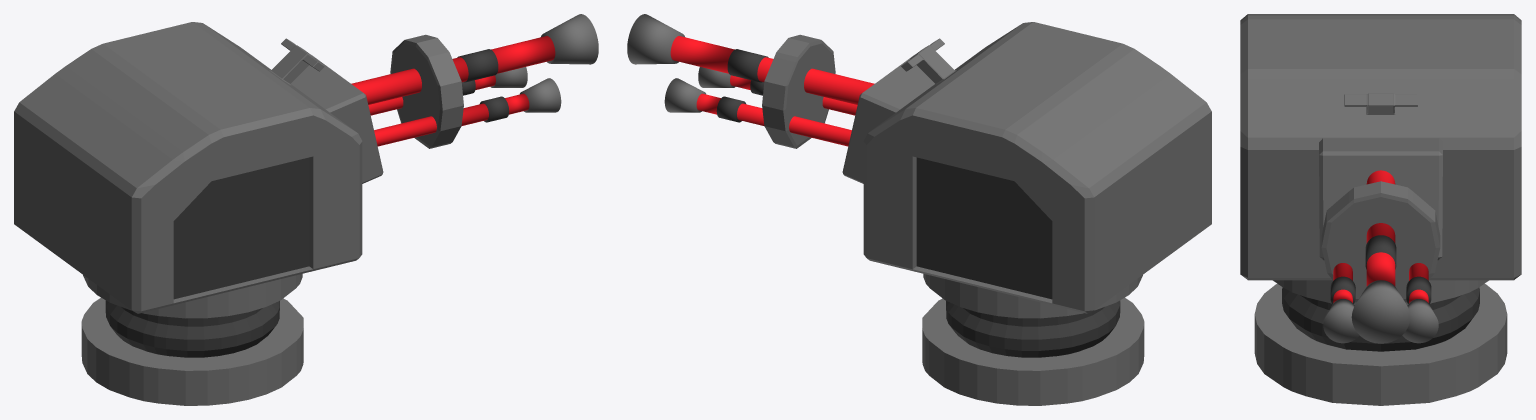
The model's file is StandardTurret.fbx.
3 renders of one model, left to right at view 1: azimuth 30°, elevation 25°; view 2: azimuth 150°, elevation 25°; view 3: azimuth 270°, elevation 25°, orthographic. The views are drawn at different scales.
Parts seen in each view (by area): view 1: Turret, Turret.001; view 2: Turret, Turret.001; view 3: Turret, Turret.001.
Boxes of the visible parts, x1=… form: Turret: x1=14, y1=14, x2=598, y2=313; Turret.001: x1=81, y1=274, x2=303, y2=405; Turret: x1=627, y1=14, x2=1211, y2=313; Turret.001: x1=922, y1=274, x2=1144, y2=405; Turret: x1=1240, y1=14, x2=1521, y2=343; Turret.001: x1=1254, y1=280, x2=1507, y2=405.
Size of the model in its own units: 106 by 55.98 by 44.56.
